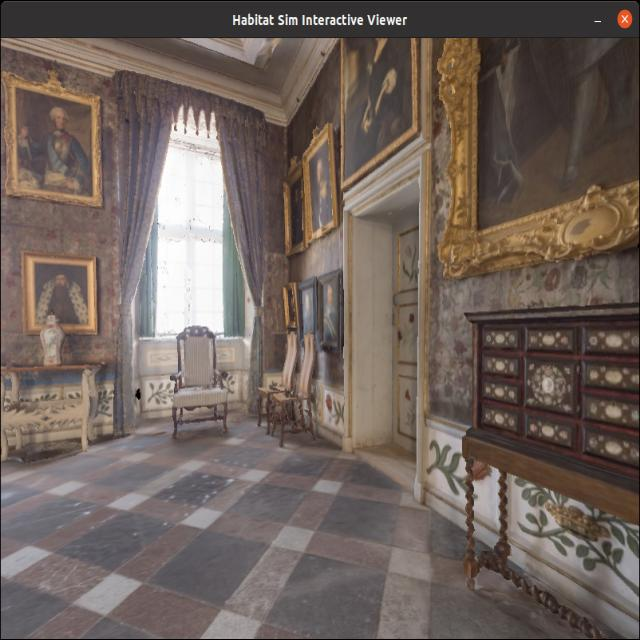chair: (160, 321, 237, 457), (266, 325, 324, 456), (252, 323, 300, 445)
door: (390, 229, 419, 472)
door-frame: (342, 149, 432, 481)
table: (0, 334, 118, 474)
